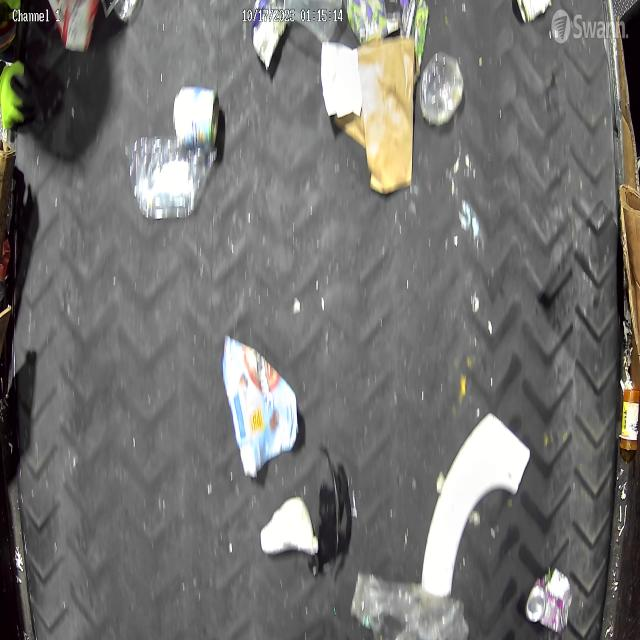can: (524, 570, 572, 634), (172, 84, 218, 145)
